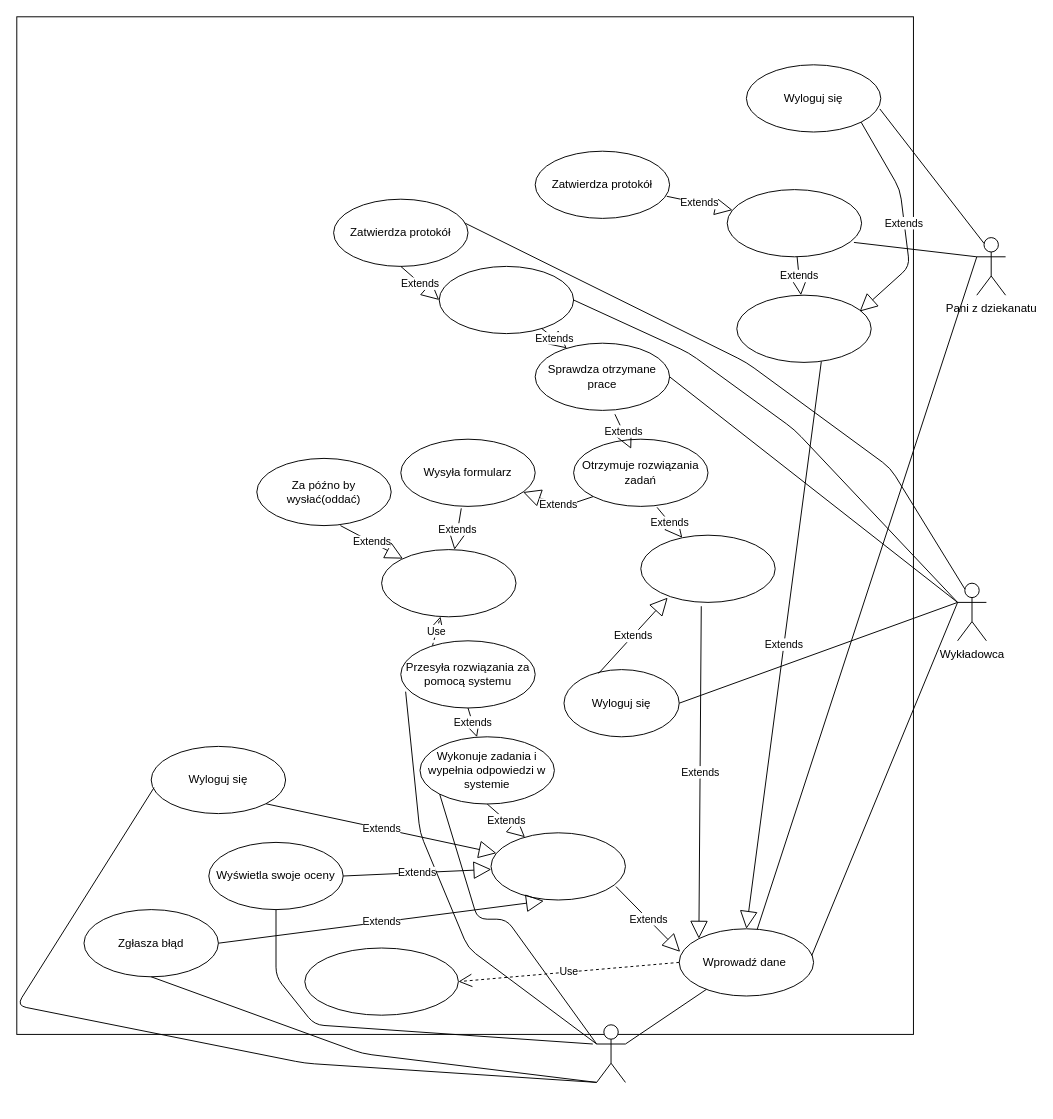
Some shapes in this 1053 by 1119 pixel diagram are drawn without their labels. The shapes that lost their labels are listed below. From the top down, each one's centre as x and y in pixels, then its label:
(x=794, y=223): Weryfikuję protokół
(x=506, y=299): Wystawia ocenę
(x=803, y=328): Zalogowano jako Pani z Dziekanatu
(x=448, y=583): Sprawdzenie godziny wysłania formularza
(x=707, y=568): Zalogowano jako wykładowca
(x=557, y=866): Zalogowano jako student
(x=381, y=981): Blokada logowania(Wprowadzono 3 razy niepoprawne dane)
(x=610, y=1053): Student
